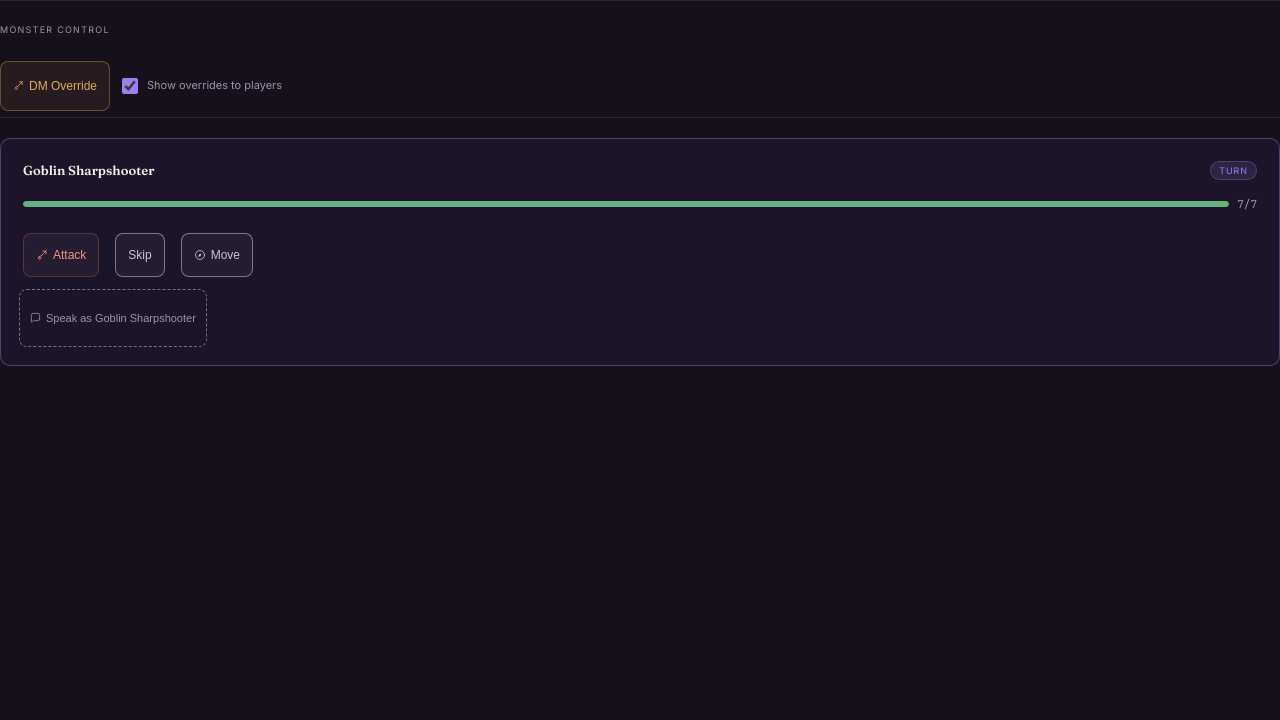
S5.4-AC4 — DmNarrationPanel: submit override with attack payload › S5.4-AC7: engine {success:false} surfaces message inline; modal stays open
Click the button "DM Override" at (55, 86), box [0,60,110,110]
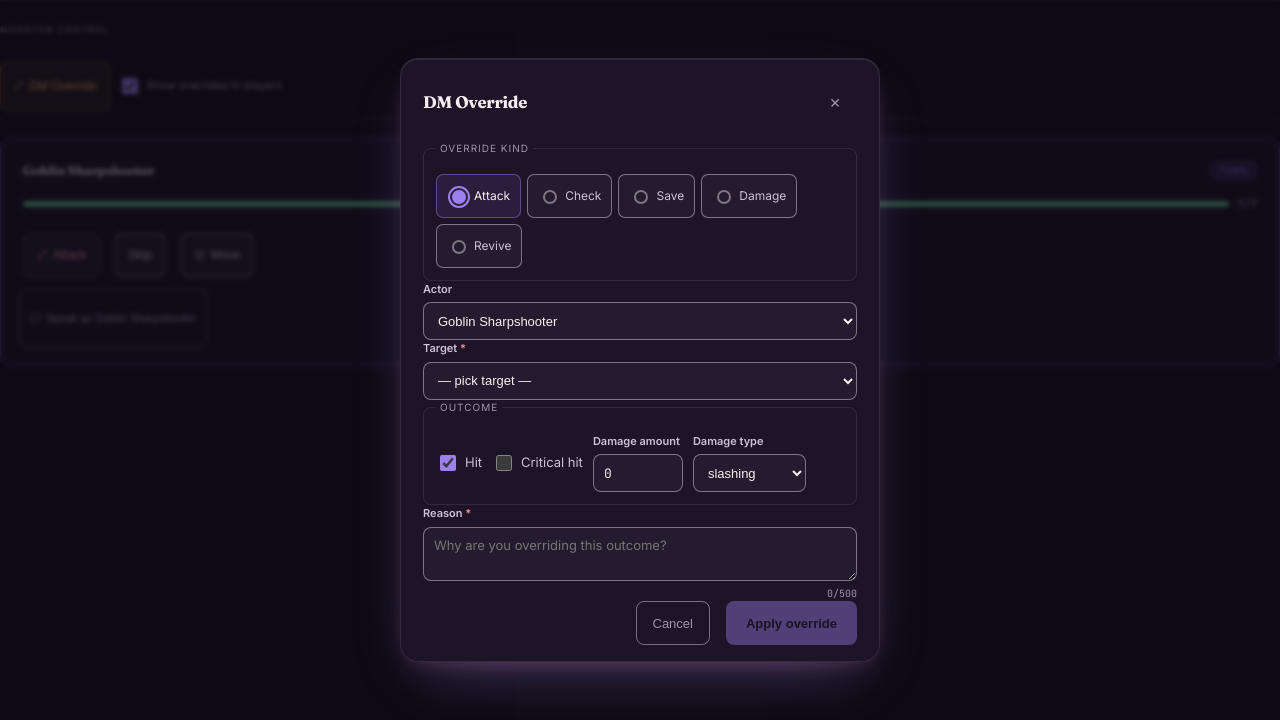
Expected: the dialog is shown, [400,58,880,662]
# Pick target + add reason so submit is enabled
Select "Luke Stormwind (HP 28/28)" in the dropdown labelled "Target *" at (640, 381), box [423,362,857,400]
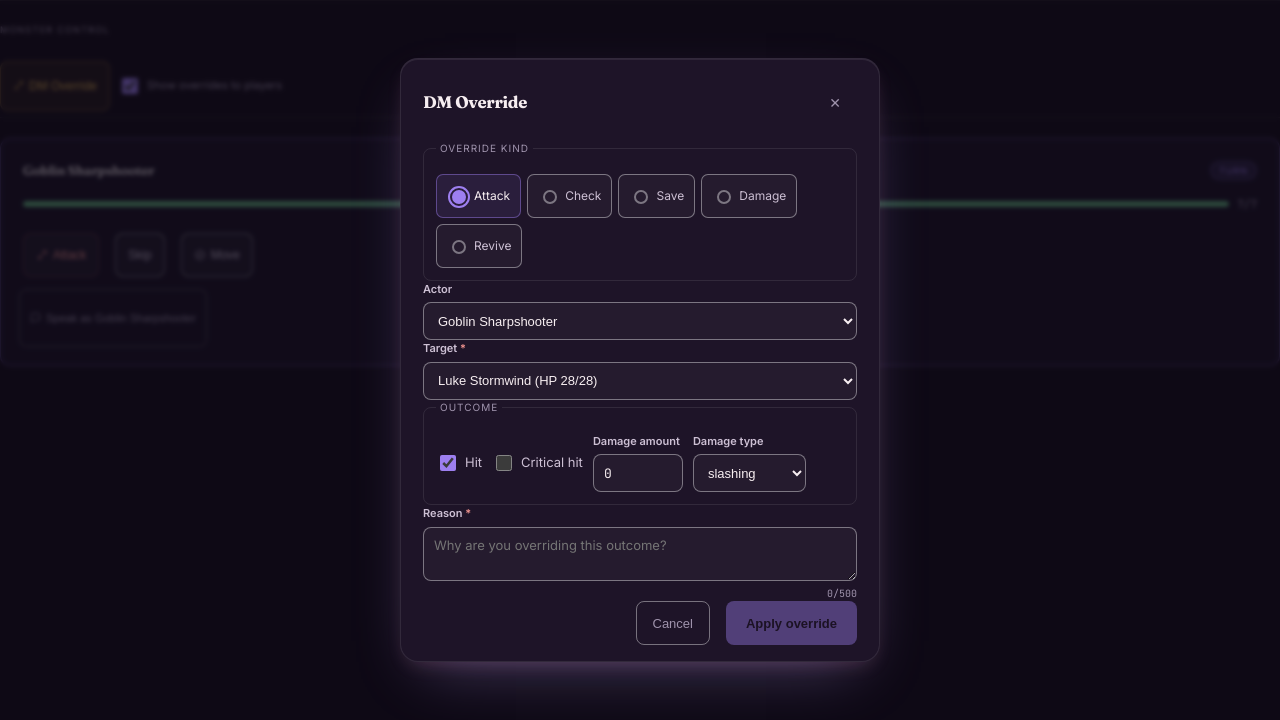
Type "test" into the text box labelled "Reason *" at (640, 554), box [423,527,857,581]
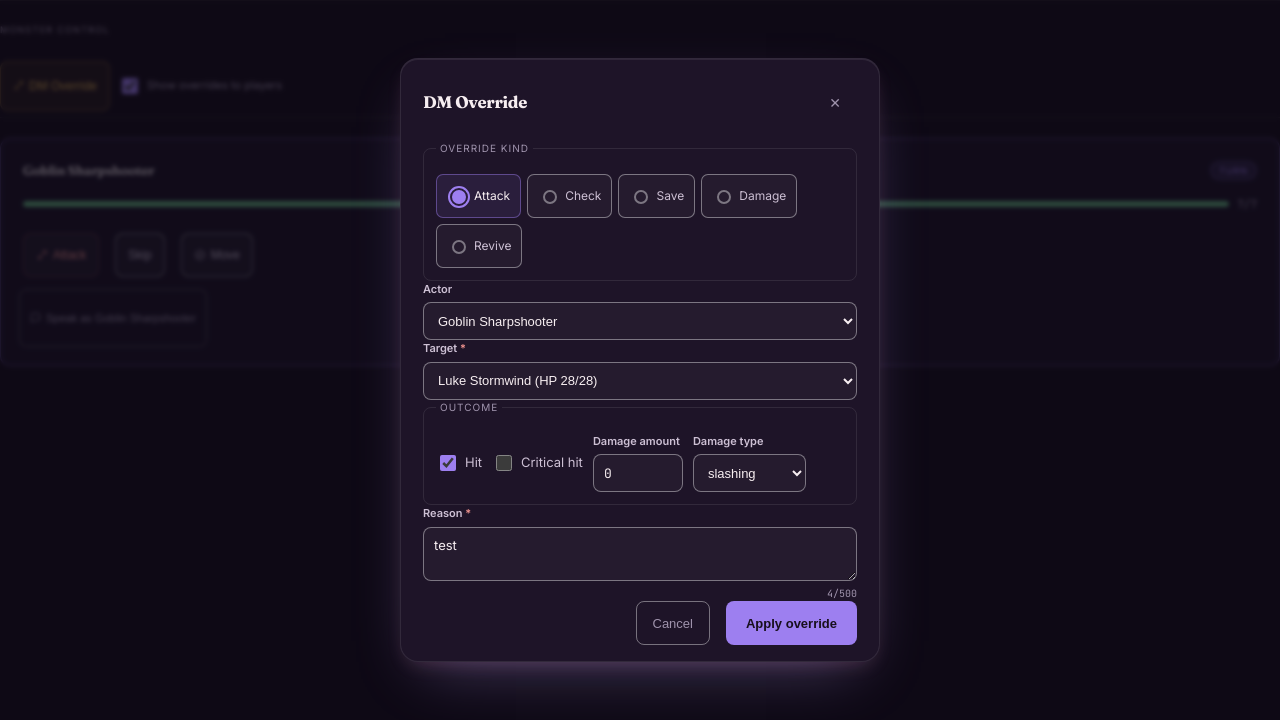
Click the button "Apply override" at (792, 623), box [726,601,857,645]
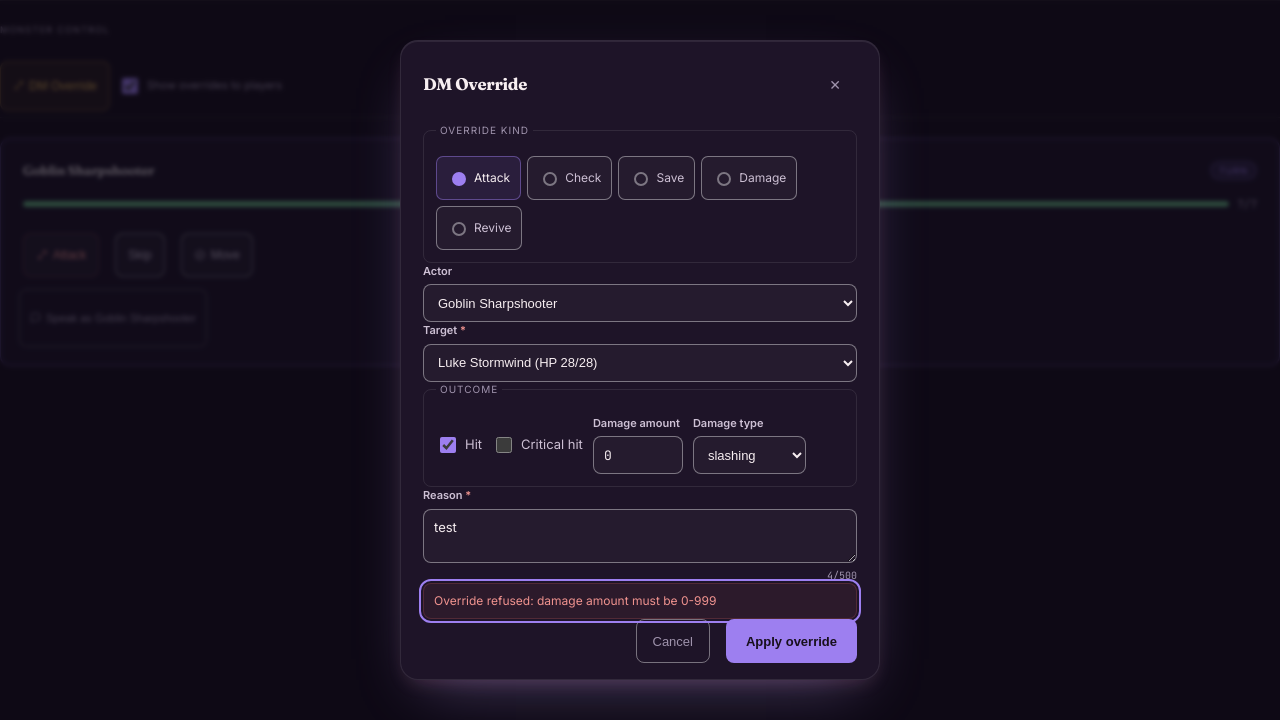
Expected: the dialog is shown, [400,40,880,680]
Expected: the message "Override refused: damage amount must be 0-999" is shown, [423,583,857,619]
Expected: the message shows "Override refused", [434,593,716,608]
